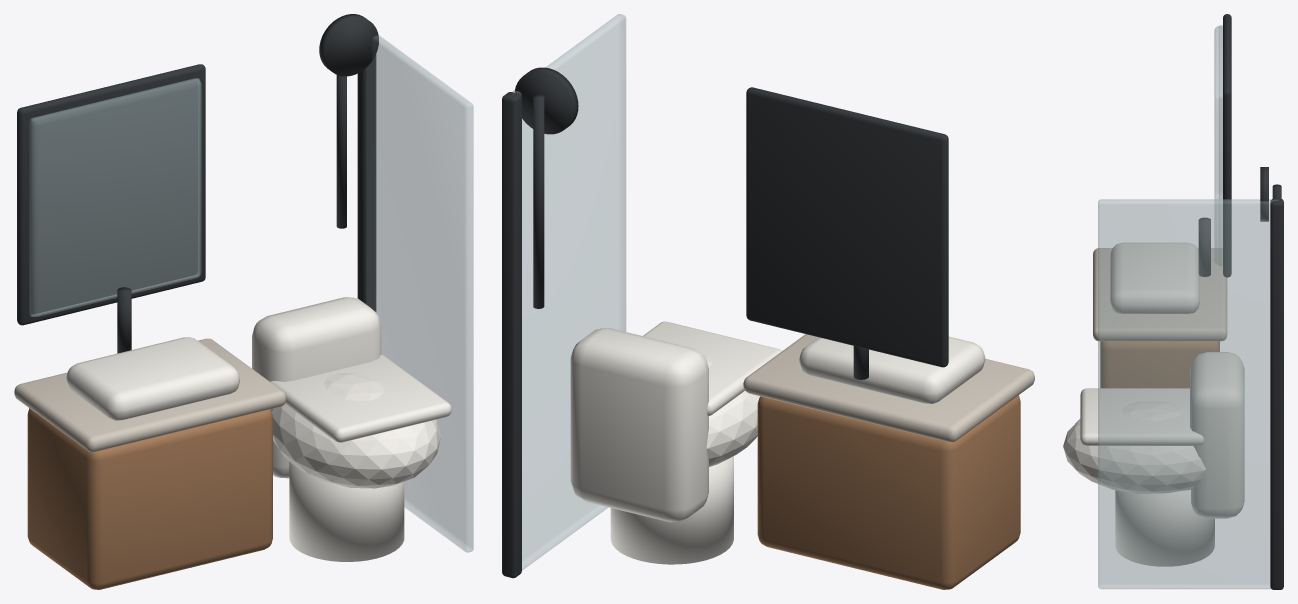
File: project-warm-minimal-bathroom.glb
The picture shows the model from 3 angles, left to right: view 1: azimuth 30°, elevation 25°; view 2: azimuth 150°, elevation 25°; view 3: azimuth 270°, elevation 25°; orthographic projection. The views are drawn at different scales.
Parts seen in each view (by area): view 1: mirror-frame, shower-glass, mirror, vanity, mirror-face, toilet-bowl, basin, vanity-top, toilet-tank, toilet-base, toilet-seat, shower-rail (+3 smaller); view 2: mirror-frame, vanity, shower-glass, toilet-tank, vanity-top, shower-rail, toilet-base, basin, toilet-seat, shower-head, toilet-bowl, shower-pipe; view 3: shower-glass, toilet-tank, toilet-bowl, toilet-base, vanity-top, basin, toilet-seat, shower-rail, vanity, mirror-frame, mirror, basin-faucet (+2 smaller).
Part boxes in pixels (x1,y1,x2,y2): mirror-frame: (17,64,205,325); shower-glass: (366,35,473,552); mirror: (30,79,201,316); vanity: (27,408,272,589); mirror-face: (29,78,200,316); toilet-bowl: (271,372,440,488); basin: (66,337,239,420); vanity-top: (14,338,286,452); toilet-tank: (252,297,381,478); toilet-base: (289,461,404,561); toilet-seat: (270,354,451,442); shower-rail: (357,54,376,311); mirror-frame: (746,87,948,367); vanity: (757,395,1020,589); shower-glass: (512,14,626,570); toilet-tank: (570,328,708,522); vanity-top: (743,334,1034,442); shower-rail: (502,92,521,578); toilet-base: (610,456,733,564); basin: (799,336,985,403); toilet-seat: (643,321,781,415); shower-head: (514,67,578,134); toilet-bowl: (700,352,760,466); shower-pipe: (533,94,544,308); shower-glass: (1098,199,1278,589); toilet-tank: (1190,352,1244,518); toilet-bowl: (1063,401,1205,493); toilet-base: (1115,490,1214,566); vanity-top: (1093,248,1227,341); basin: (1110,242,1199,313); toilet-seat: (1080,388,1204,445); shower-rail: (1270,198,1283,589); vanity: (1100,341,1219,388); mirror-frame: (1223,14,1231,277); mirror: (1214,26,1222,264); basin-faucet: (1198,217,1210,276).
Size of the model in its own units: 1.57 by 1.84 by 0.8872.
